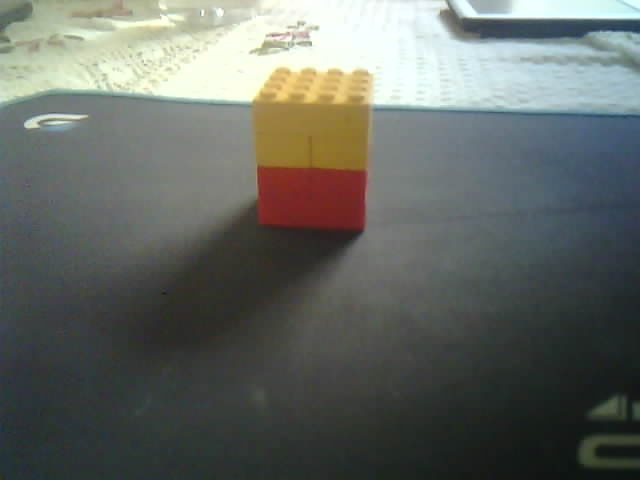lego: (249, 65, 374, 233)
